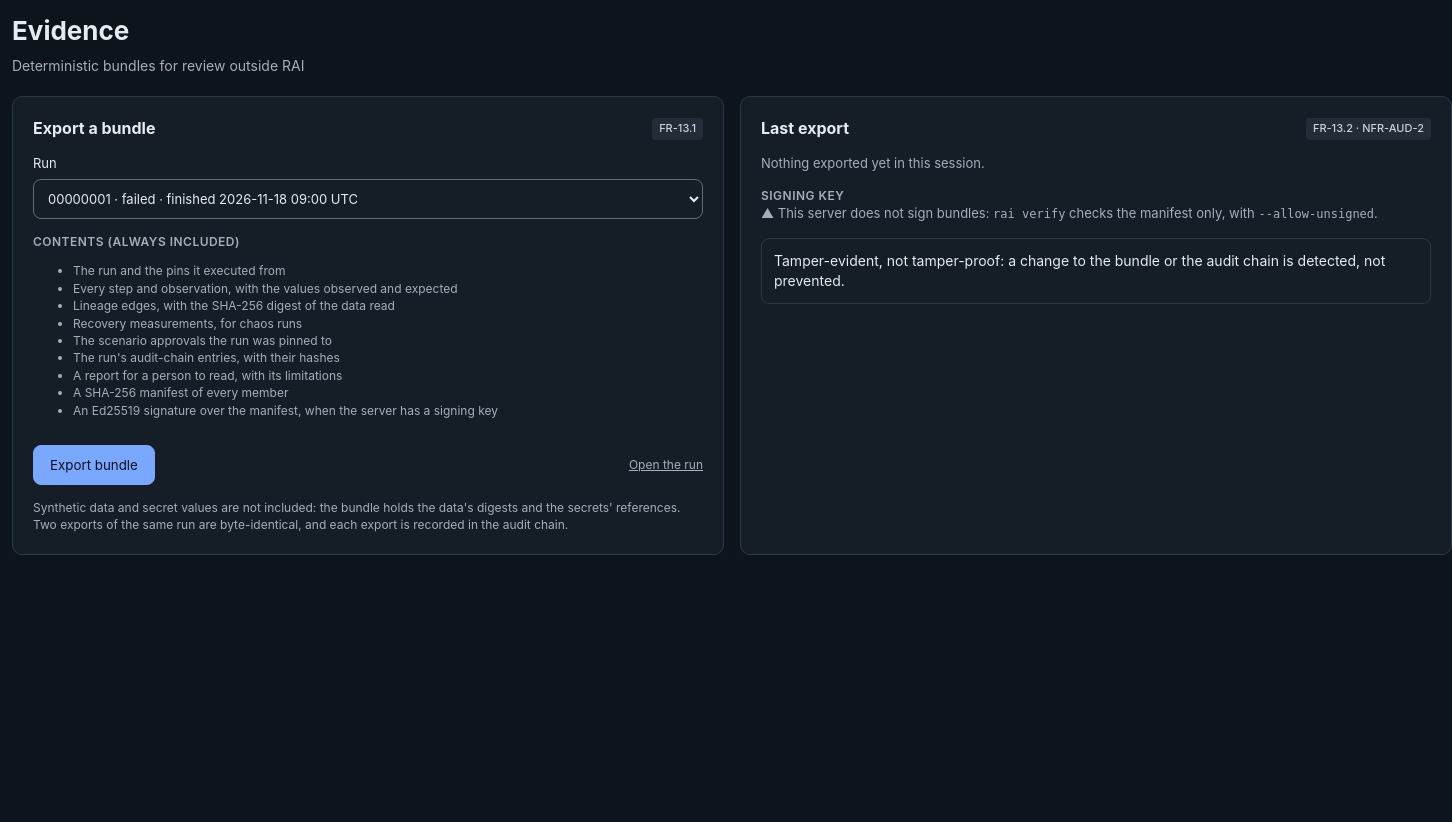
Test: Evidence (FR-13.1, FR-13.2, NFR-AUD-2) › says when the server does not sign, and verifies with --allow-unsigned
Expected: the text "This server does not sign bundles" is shown, top-left (761, 205), bottom-right (993, 221)
Click the button "Export bundle": {"x": 94, "y": 465} top-left (33, 445), bottom-right (155, 485)
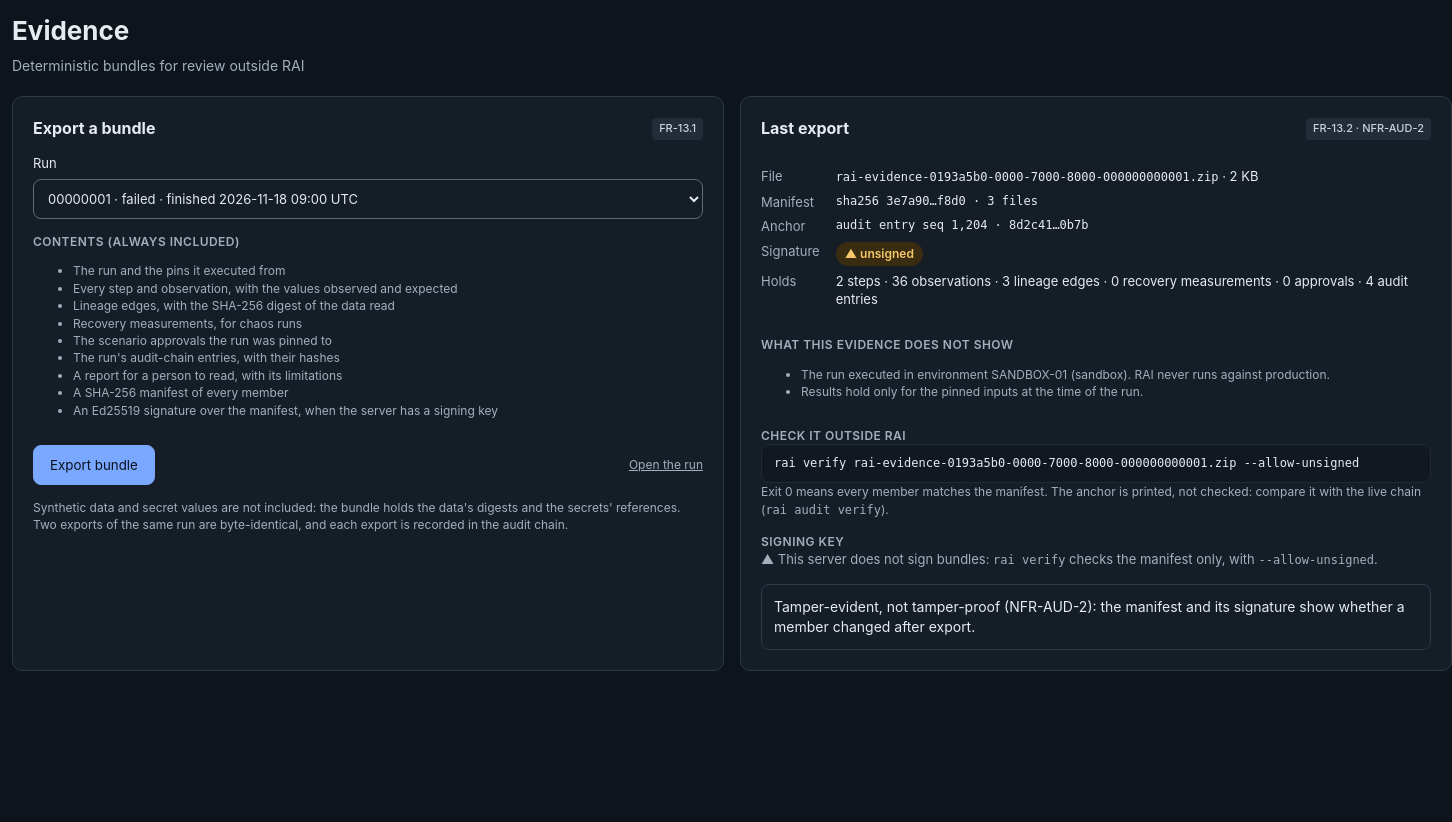
Now the text "▲ unsigned" is shown, box top-left (836, 242), bottom-right (923, 266)
